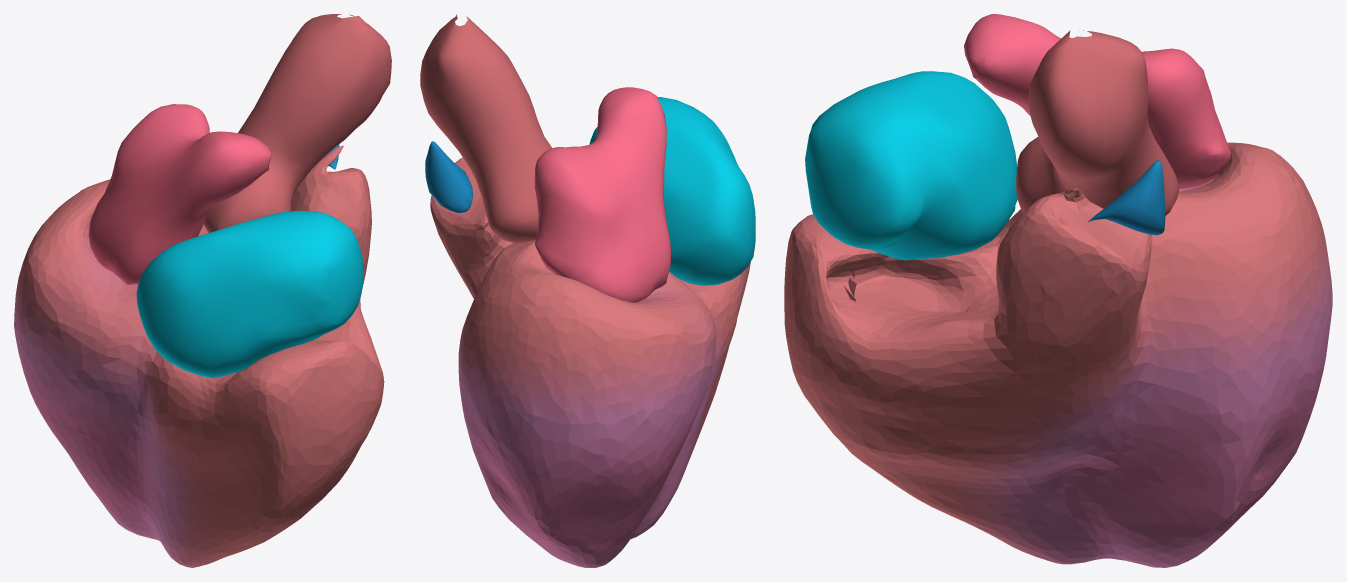
File: frame_11.glb
3 renders of one model, left to right at view 1: azimuth 30°, elevation 25°; view 2: azimuth 150°, elevation 25°; view 3: azimuth 270°, elevation 25°, orthographic. The views are drawn at different scales.
Parts seen in each view (by area): view 1: Renderer Node; view 2: Renderer Node; view 3: Renderer Node.
Boxes of the visible parts, x1,y1,x2,y2 form: Renderer Node: (14,14,391,567); Renderer Node: (420,14,755,567); Renderer Node: (784,14,1332,567).
Size of the model in its own units: 103 by 157 by 124.
